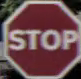Stop: (4, 5, 74, 65)
